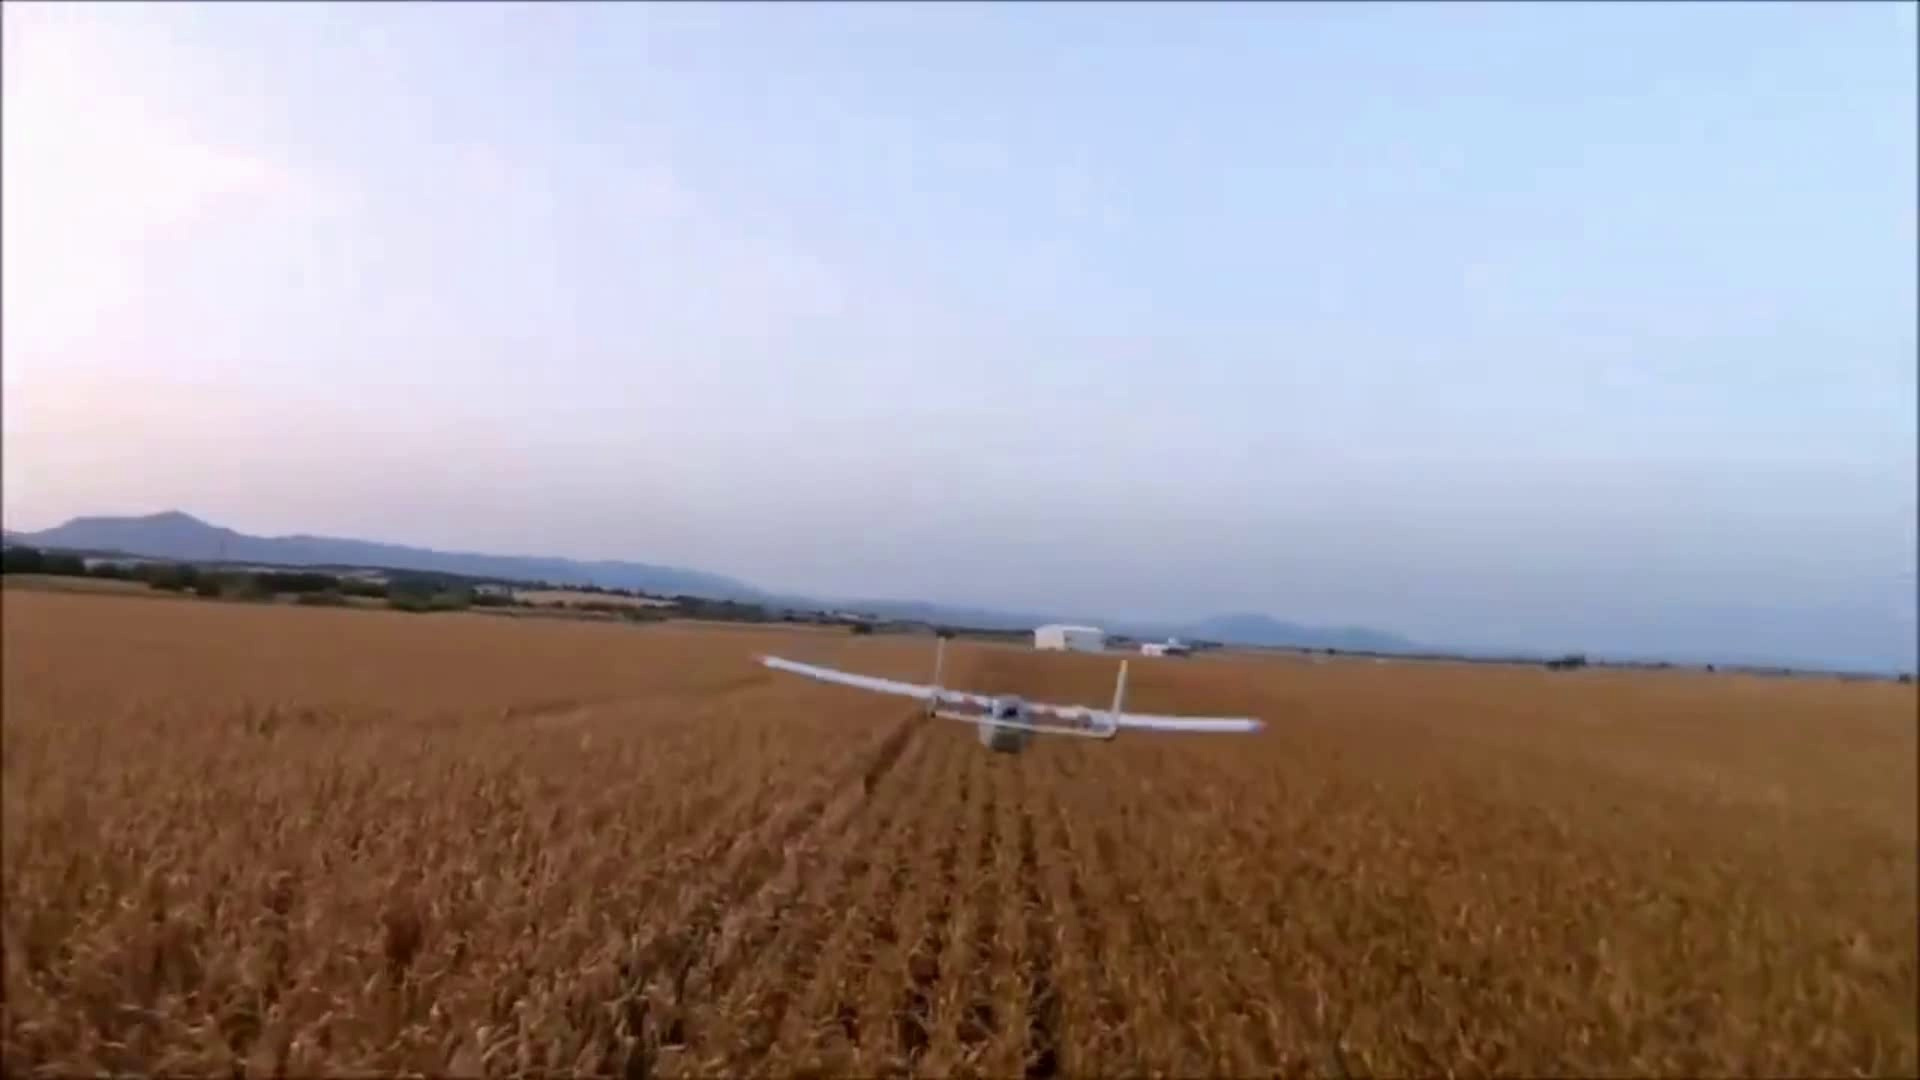airplane: (756, 649, 1267, 756)
